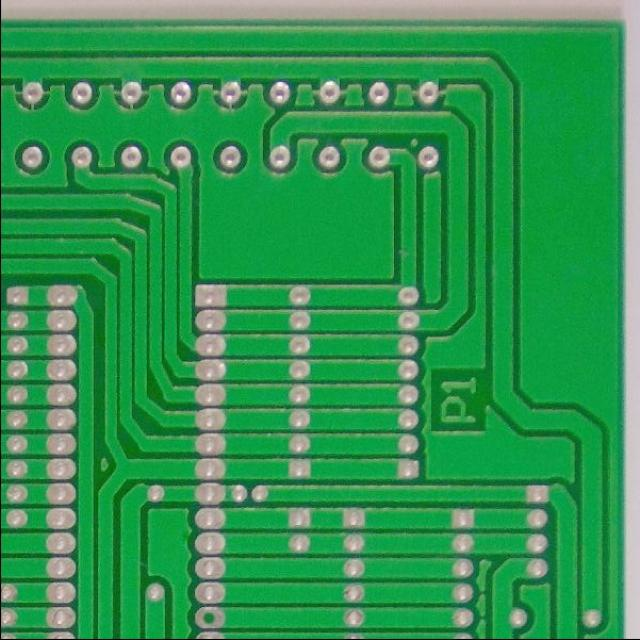Missing_Hole: (191, 604, 229, 631)
